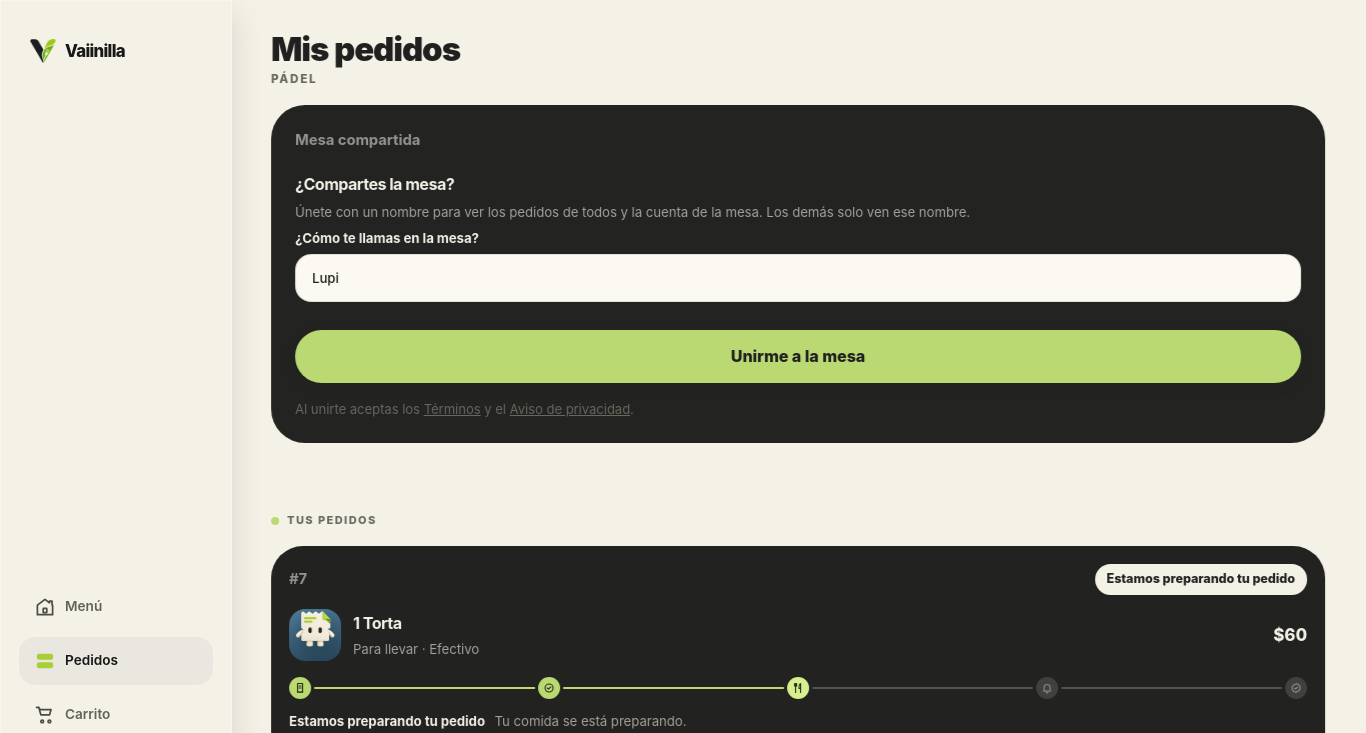
Scenario: pedidos del invitado › quien escaneó el QR se une a la mesa con su alias
The width and height of the screenshot is (1366, 733).
Expected: the field labelled "¿Cómo te llamas en la mesa?" holds "Lupi", [296, 254, 1302, 302]
Click the button "Unirme a la mesa" at (799, 357), box [296, 330, 1302, 383]
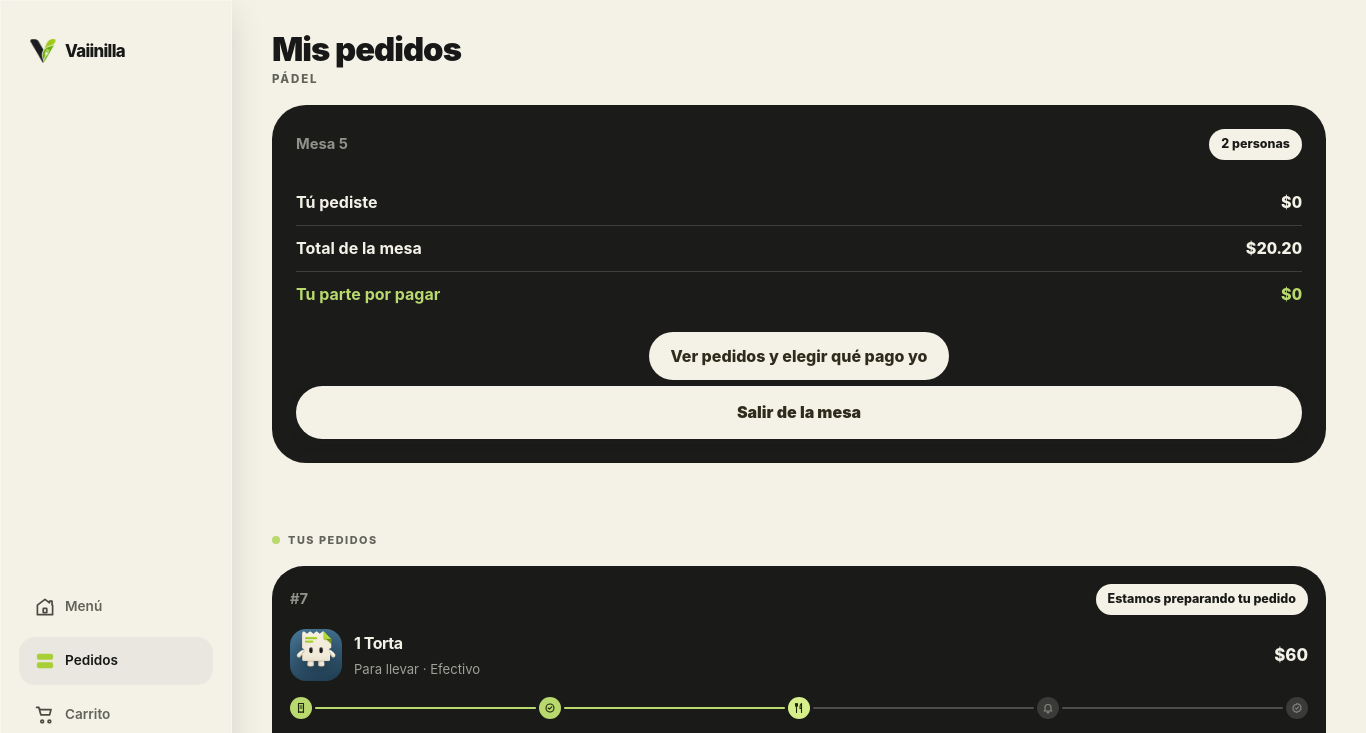
Now the element "Mesa 5" is shown, box [272, 105, 1326, 463]
// Dos invitados en la misma mesa: solo alias, cada quien ve al otro.
Click the heading "Ver pedidos y elegir qué pago yo" at (799, 356), box [648, 332, 950, 380]
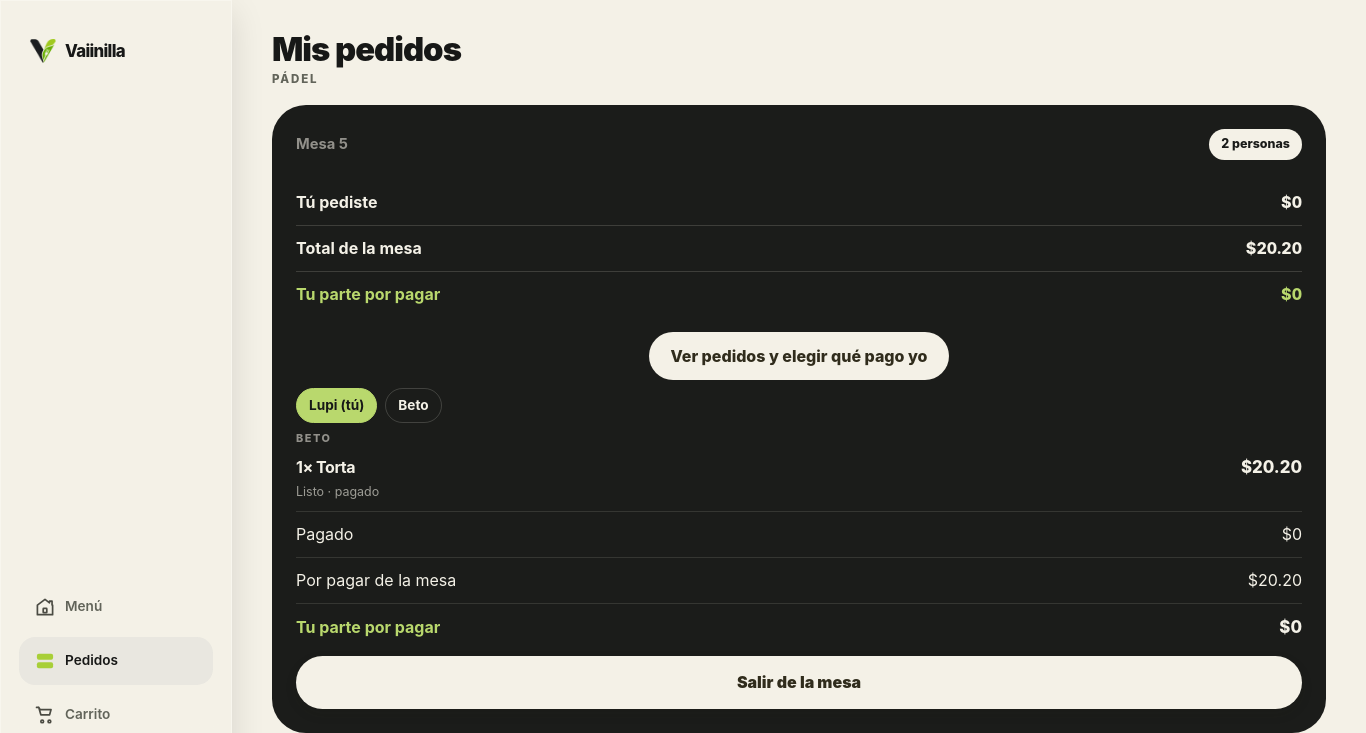
Now the text "Lupi (tú)" is shown, box [296, 388, 377, 423]
Now the text "Beto" is shown, box [385, 388, 442, 423]
Now the text "1× Torta" is shown, box [296, 457, 355, 477]
